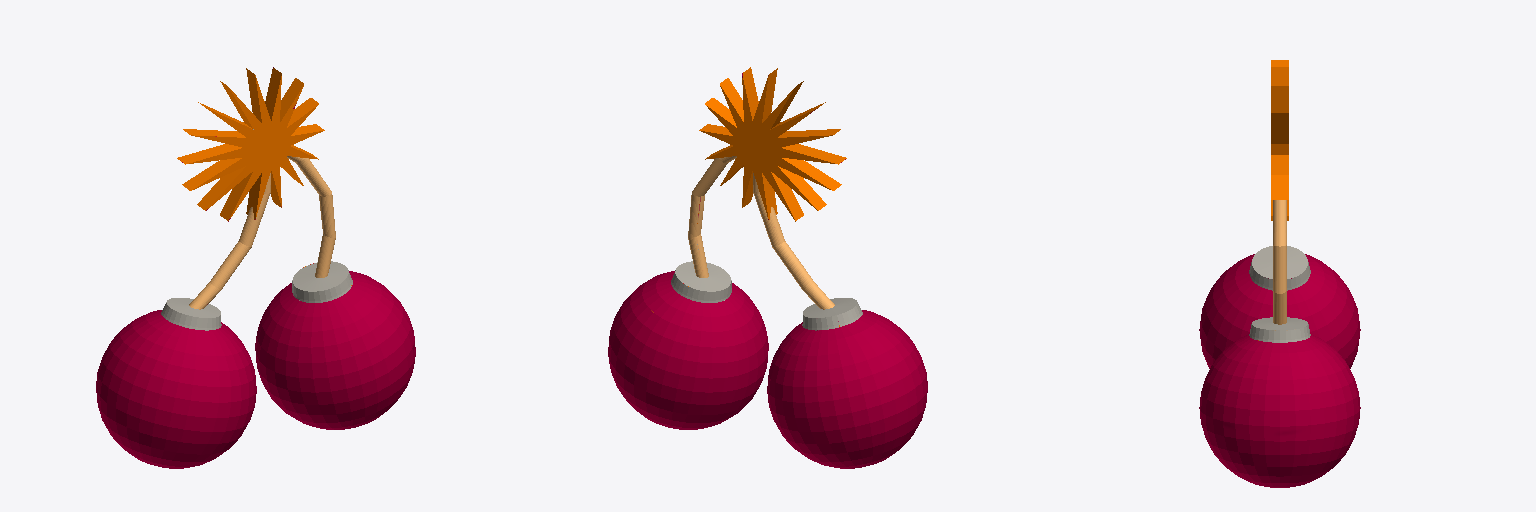
The picture shows the model from 3 angles: view 1: azimuth 30°, elevation 25°; view 2: azimuth 150°, elevation 25°; view 3: azimuth 270°, elevation 25°; orthographic projection.
Parts seen in each view (by area): view 1: 球; view 2: 球; view 3: 球.
Boxes of the visible parts, box(x1,y1,x2,y2) form: 球: box(96, 67, 415, 468); 球: box(608, 67, 927, 468); 球: box(1199, 60, 1360, 487).
Bounding box in the file's own units: 0.9241 × 1.1 × 0.432.
Materials: 1 (1 with a texture image).